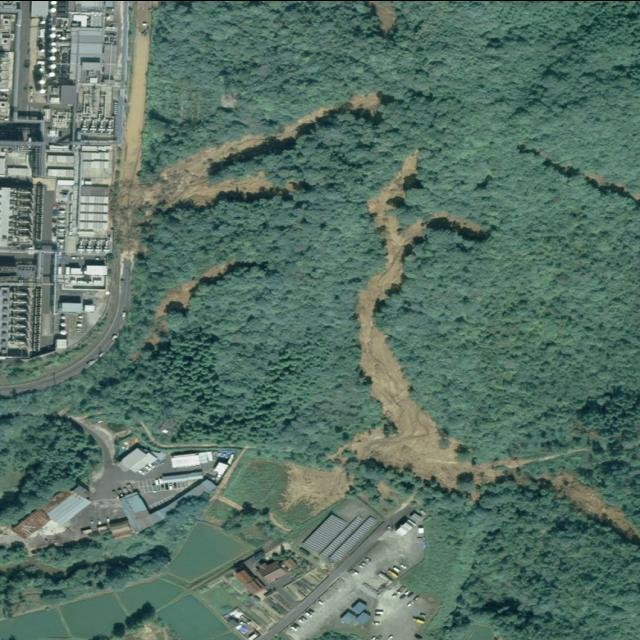landslide: (346, 153, 494, 486), (112, 136, 270, 252), (545, 472, 640, 541)
